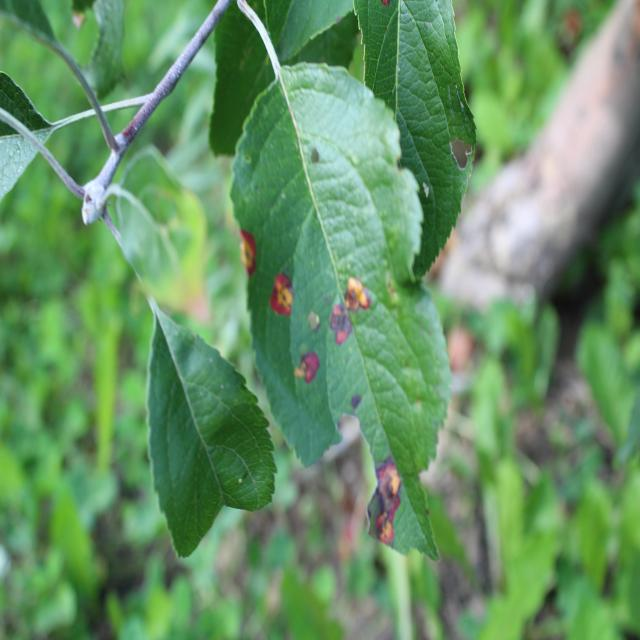Rust: (358, 438, 411, 558), (316, 276, 381, 358), (266, 261, 301, 332), (236, 210, 257, 294), (286, 349, 326, 391)
